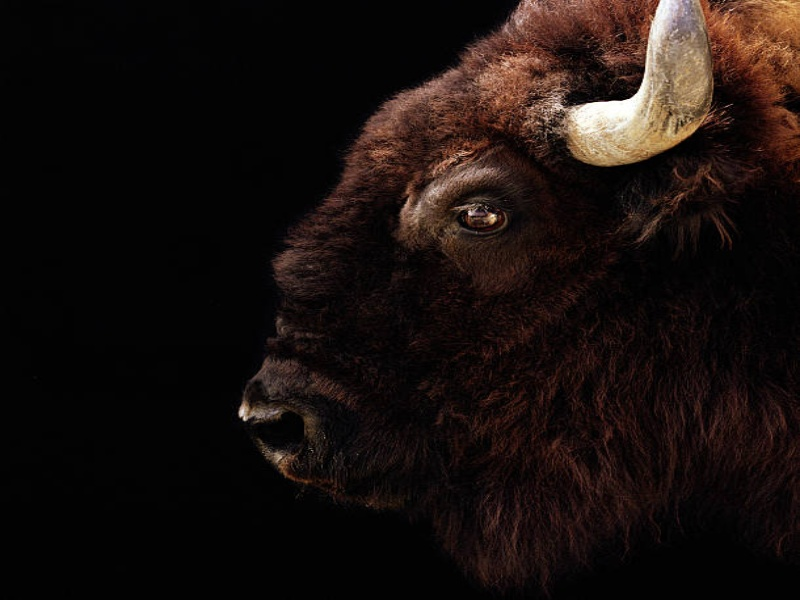buffalo: (230, 22, 772, 566)
